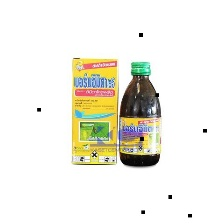carton: (68, 54, 120, 167)
insecticide: (116, 56, 163, 170)
